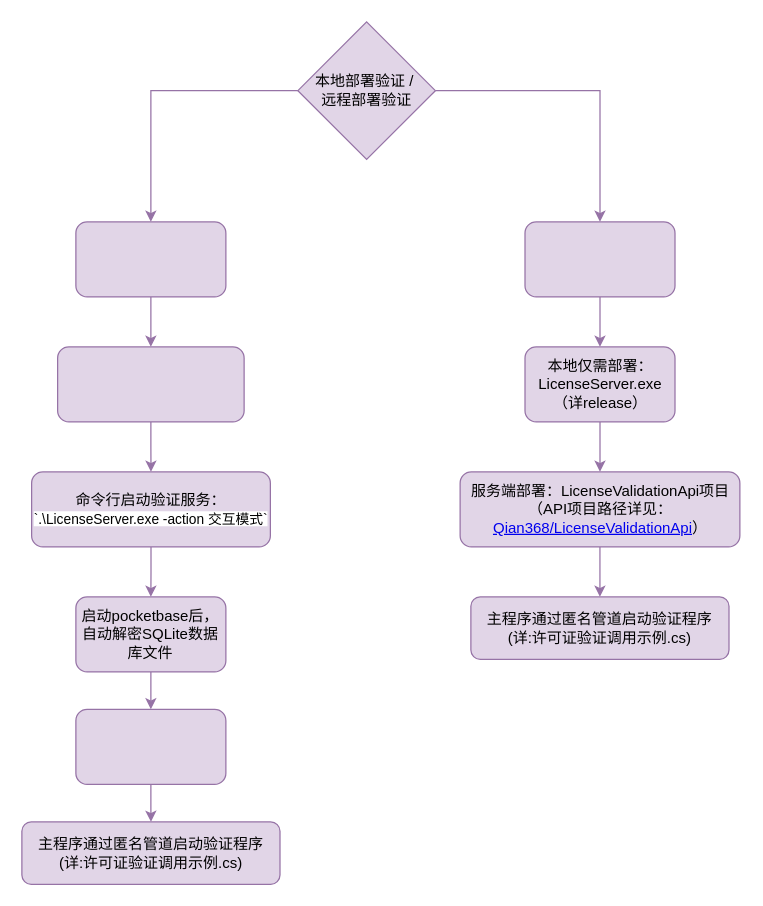
Image size: 763x906. Some labels were removed from this diagram. The shapes that lost their labels are listed below. From the top down, each one's centre as x and y in pixels, then its label:
At [150,259]: "本地验证".
At [599,259]: "远程验证".
At [150,384]: "需部署： LicenseServer.exe + pocketbase文件夹 （详release）".
At [150,746]: "第三方数据库客户端批量录入许可证".
